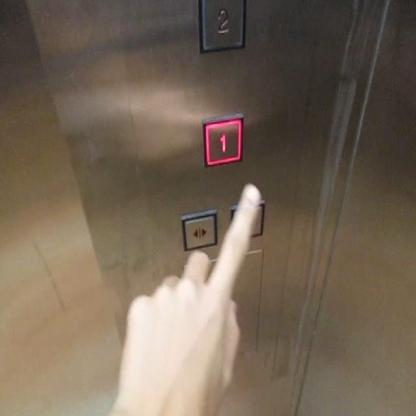1: (201, 113, 244, 169)
2: (196, 0, 247, 54)
open: (178, 207, 220, 255)
